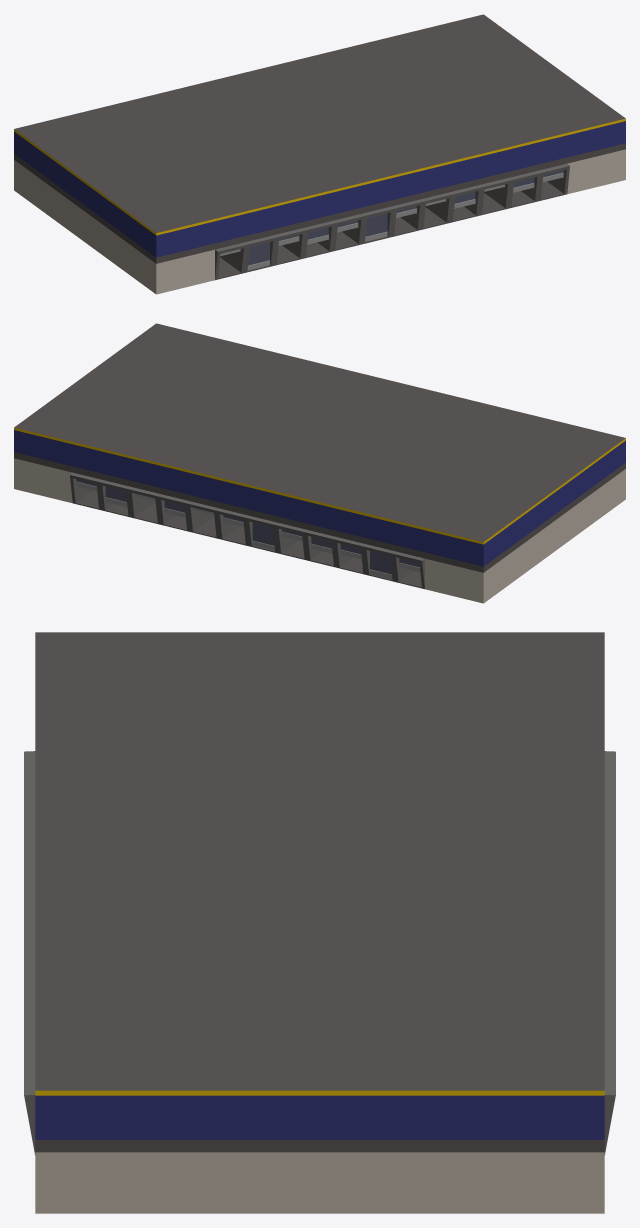
The model's file is Depot_Garage_S1.fbx.
The picture shows the model from 3 angles, top to bottom: view 1: azimuth 30°, elevation 25°; view 2: azimuth 150°, elevation 25°; view 3: azimuth 270°, elevation 25°; orthographic projection. The views are drawn at different scales.
Parts seen in each view (by area): view 1: Depot_Garage; view 2: Depot_Garage; view 3: Depot_Garage.
Boxes of the visible parts, x1=… form: Depot_Garage: x1=14, y1=14, x2=625, y2=294; Depot_Garage: x1=14, y1=323, x2=625, y2=603; Depot_Garage: x1=24, y1=632, x2=615, y2=1213.
Bounding box in the file's own units: 8000 × 1000 × 4366.
